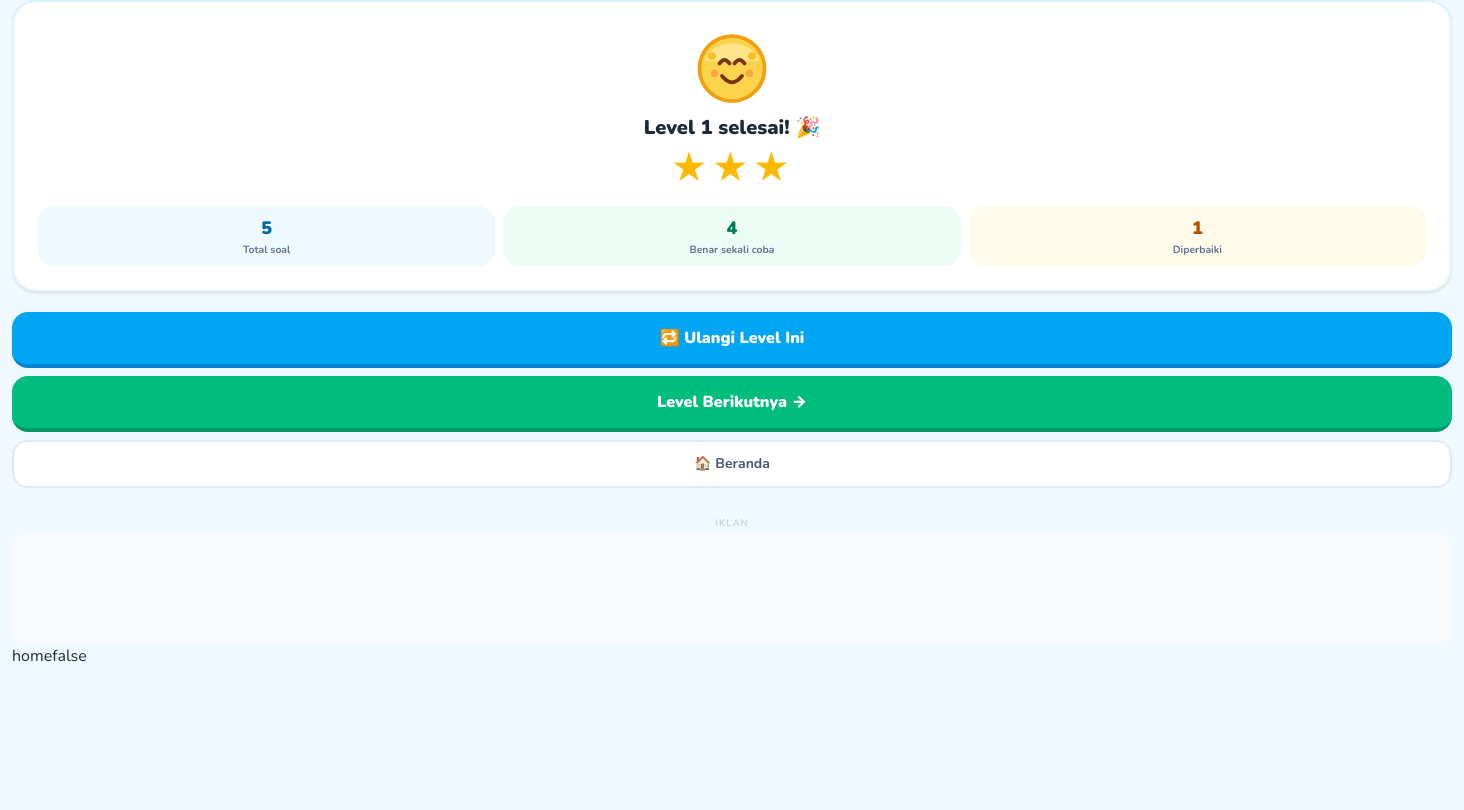
Test: ResultScreen › transisi lintas tipe: akuarium-4 ke kebun-5 mengarah ke screen garden
The width and height of the screenshot is (1464, 810).
Click the button "Level Berikutnya →" at (732, 404), box [12, 376, 1452, 432]
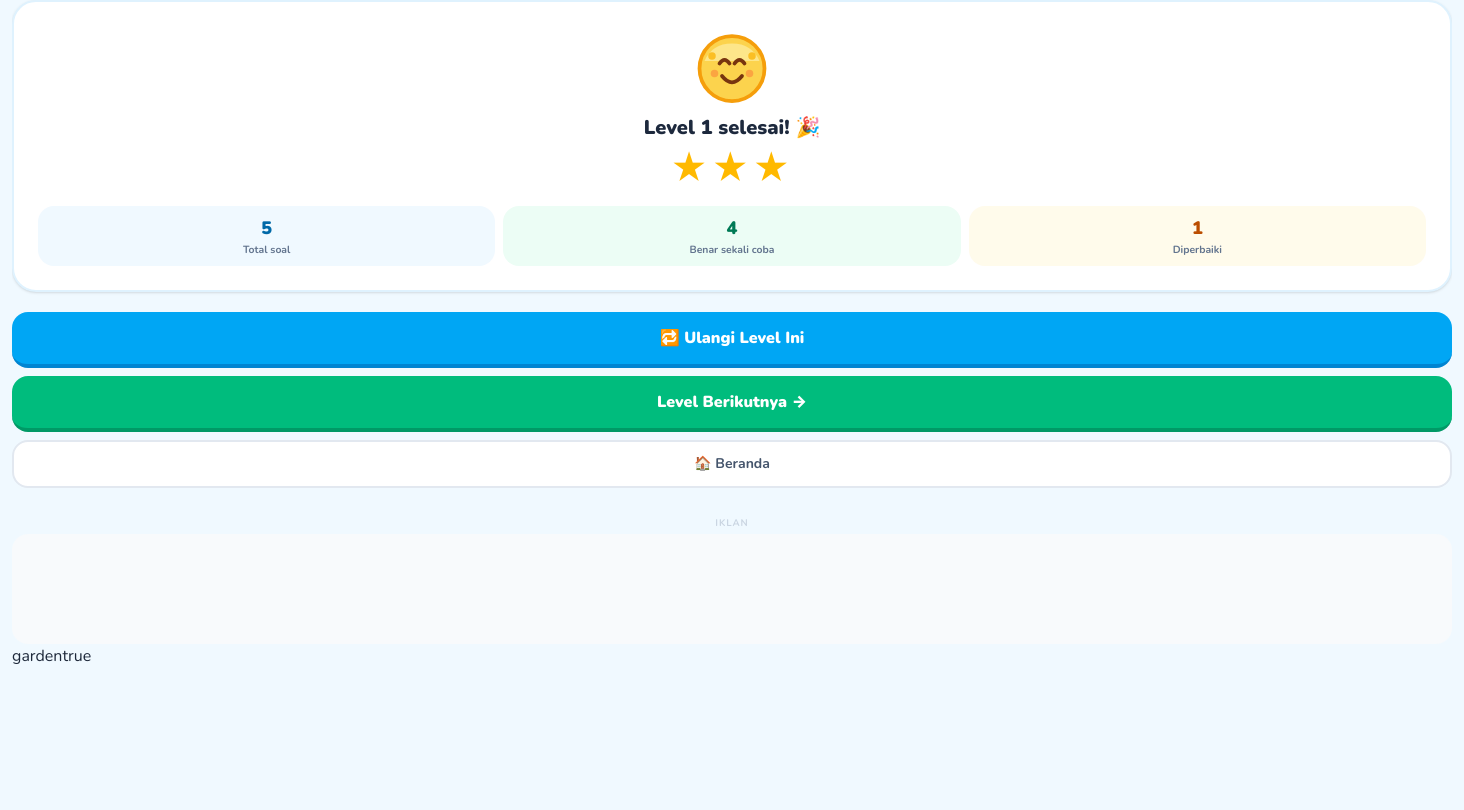
Now the text with test id "probe-screen" reads "garden", box [12, 645, 62, 667]
